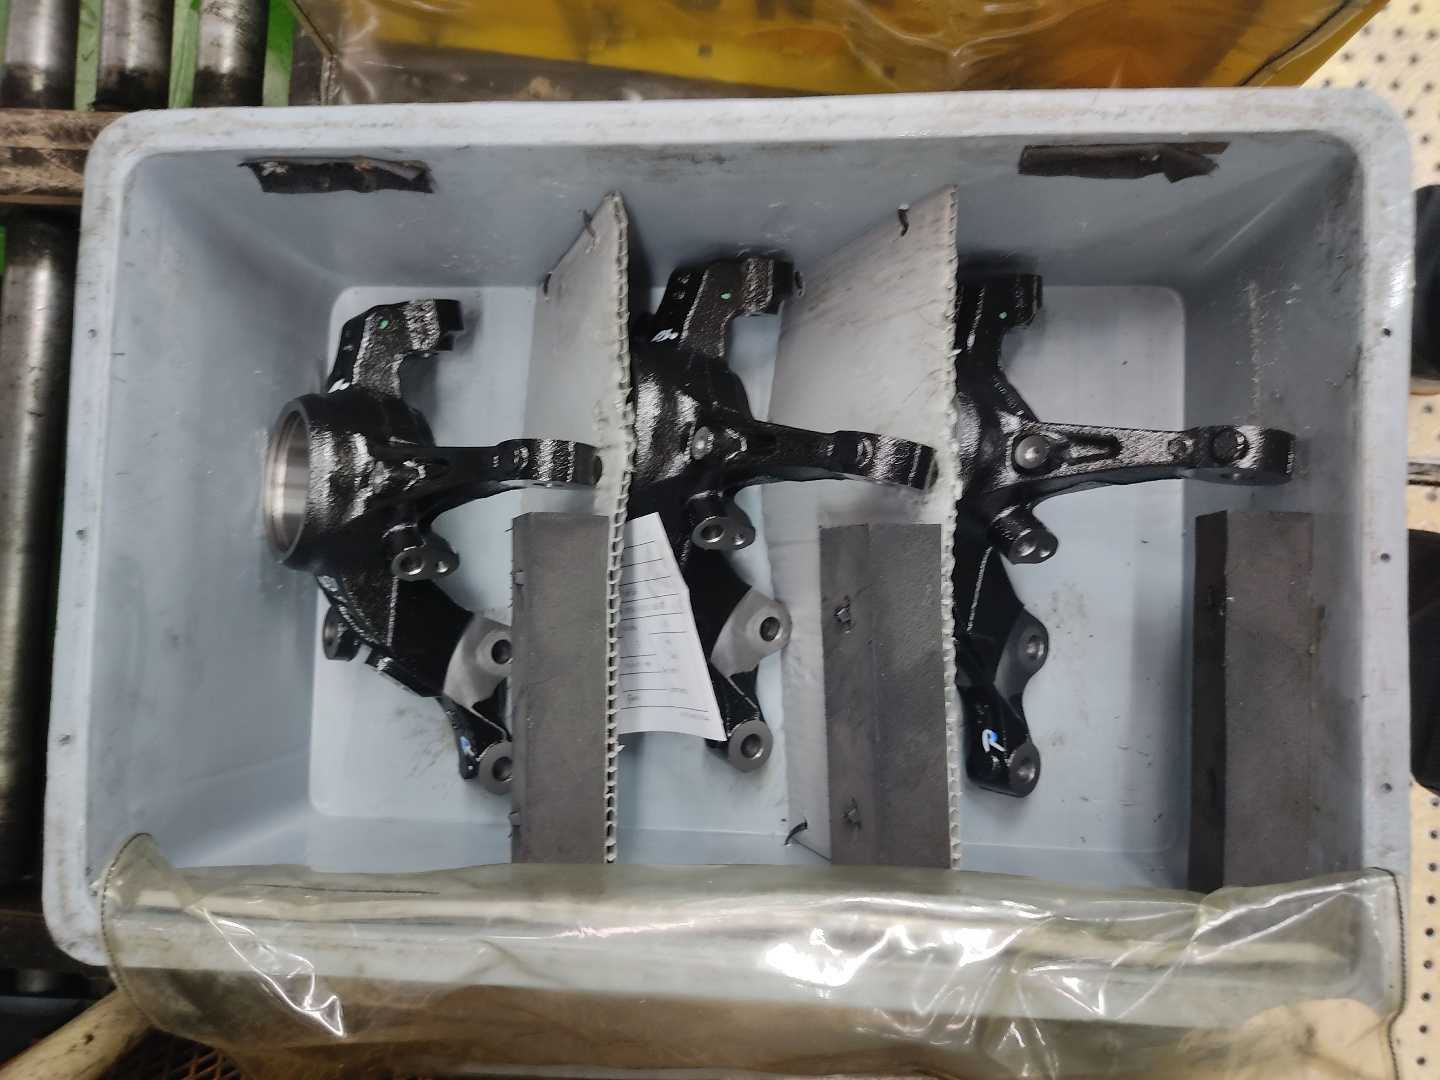abs-rh: (943, 248, 1304, 817), (251, 292, 608, 807), (621, 228, 945, 796)
